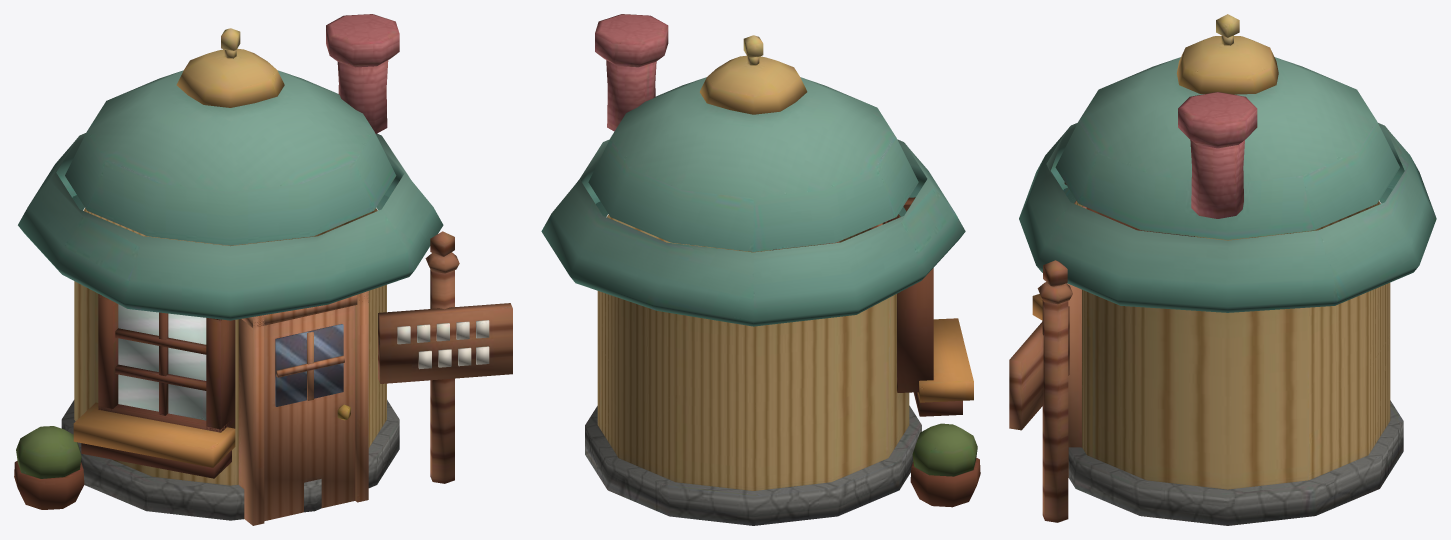
Rendered from kiosk_1_low.glb.
3 views of the same model, side by side, from view 1: azimuth 30°, elevation 25°; view 2: azimuth 150°, elevation 25°; view 3: azimuth 270°, elevation 25° (orthographic). The views are drawn at different scales.
Visible parts, largest first — view 1: kiosk_1; view 2: kiosk_1; view 3: kiosk_1.
Part boxes in pixels (x1,y1,x2,y2): kiosk_1: [14, 14, 512, 525]; kiosk_1: [541, 14, 980, 525]; kiosk_1: [1009, 14, 1436, 525].
Size of the model in its own units: 1.27 by 1.28 by 1.13.
Materials: 1 (1 with a texture image).
